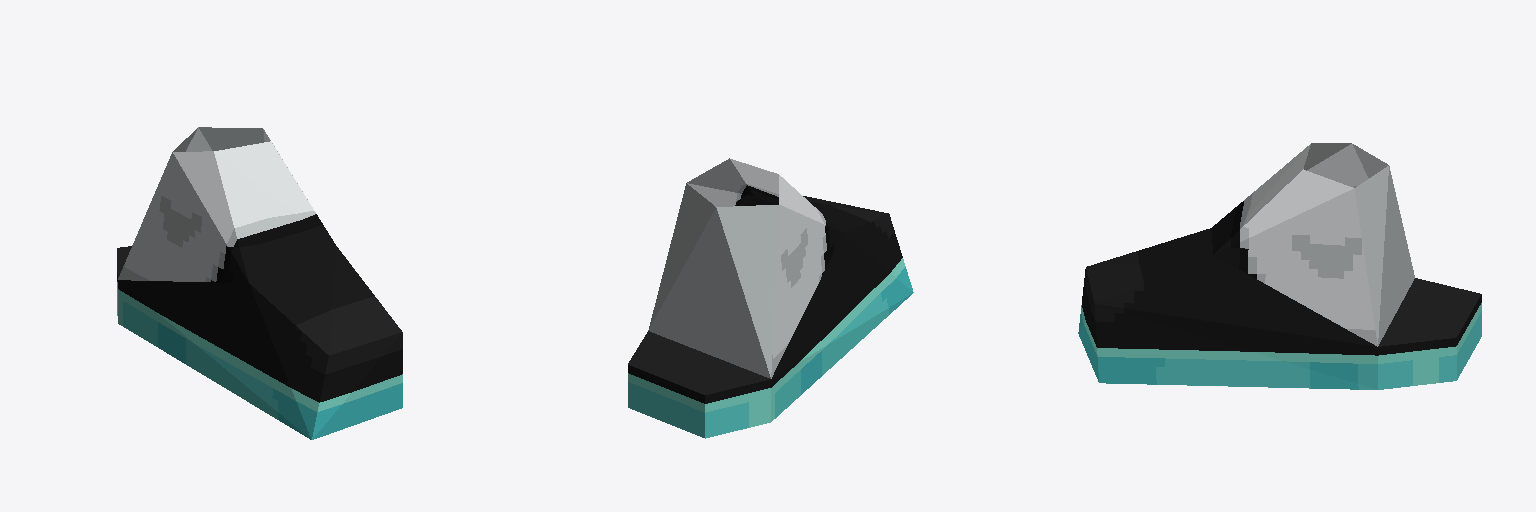
3 views of the same model, side by side, from view 1: azimuth 30°, elevation 25°; view 2: azimuth 150°, elevation 25°; view 3: azimuth 270°, elevation 25° (orthographic).
Parts seen in each view (by area): view 1: 15_LEFT_FOOT; view 2: 15_LEFT_FOOT; view 3: 15_LEFT_FOOT.
Boxes of the visible parts, x1,y1,x2,y2 form: 15_LEFT_FOOT: [117, 127, 402, 439]; 15_LEFT_FOOT: [628, 158, 913, 438]; 15_LEFT_FOOT: [1078, 143, 1481, 389].
Size of the model in its own units: 0.1535 by 0.2065 by 0.3788.
1 materials, 1 textured.